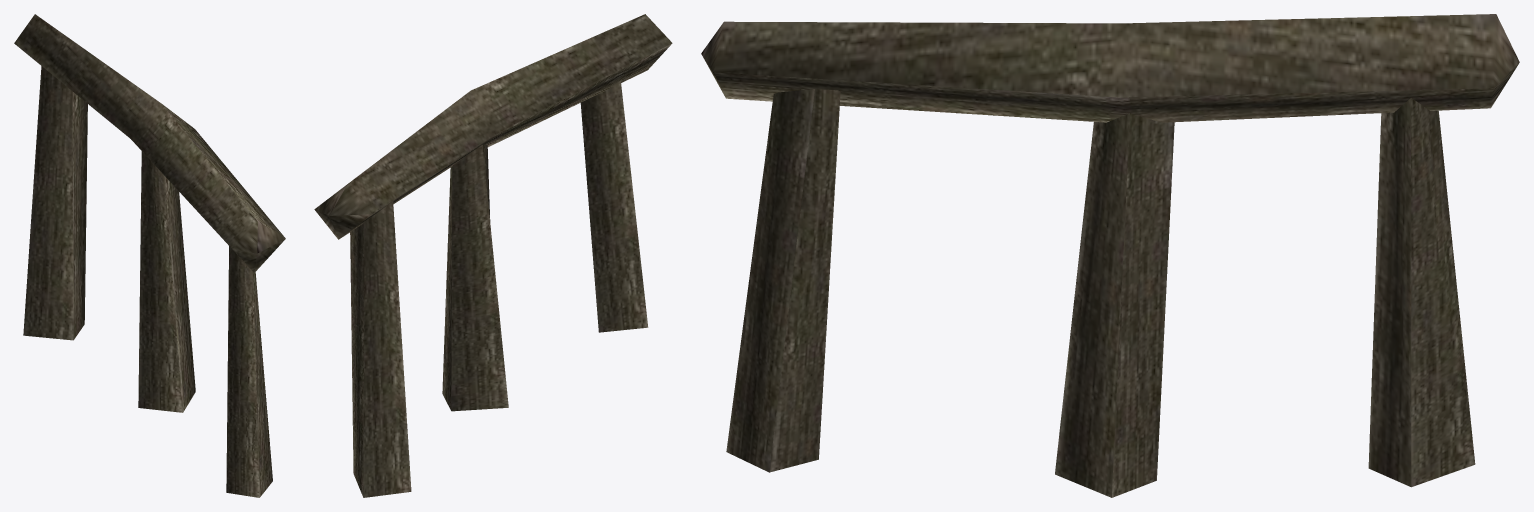
The model's file is MIN_LOB_HANDRAIL_2.glb.
3 views of the same model, side by side, from view 1: azimuth 30°, elevation 25°; view 2: azimuth 150°, elevation 25°; view 3: azimuth 270°, elevation 25° (orthographic). The views are drawn at different scales.
Parts seen in each view (by area): view 1: Mesh; view 2: Mesh; view 3: Mesh.
Boxes of the visible parts, bbox=[...] form: Mesh: bbox=[14, 14, 285, 497]; Mesh: bbox=[314, 14, 672, 497]; Mesh: bbox=[701, 14, 1519, 497].
Size of the model in its own units: 0.4088 by 1.27 by 2.07.
Materials: 1 (1 with a texture image).
